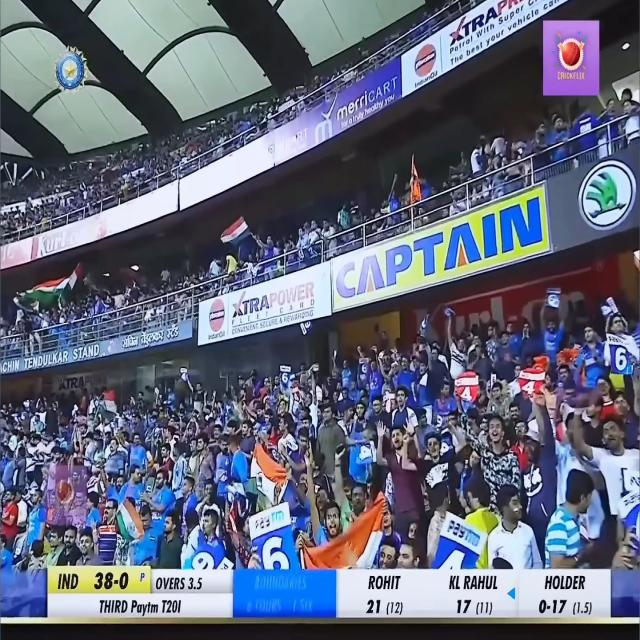fully_visible: (440, 518, 492, 558), (246, 506, 294, 538)
